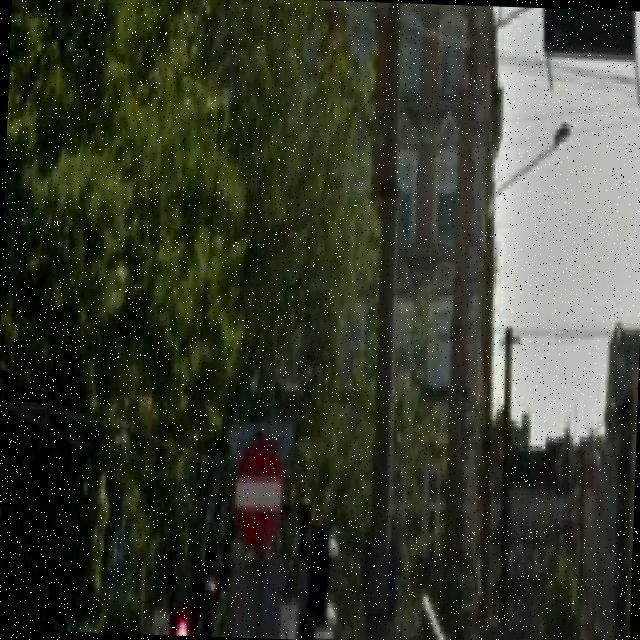Zakaz wjazdu: (232, 433, 284, 548)
